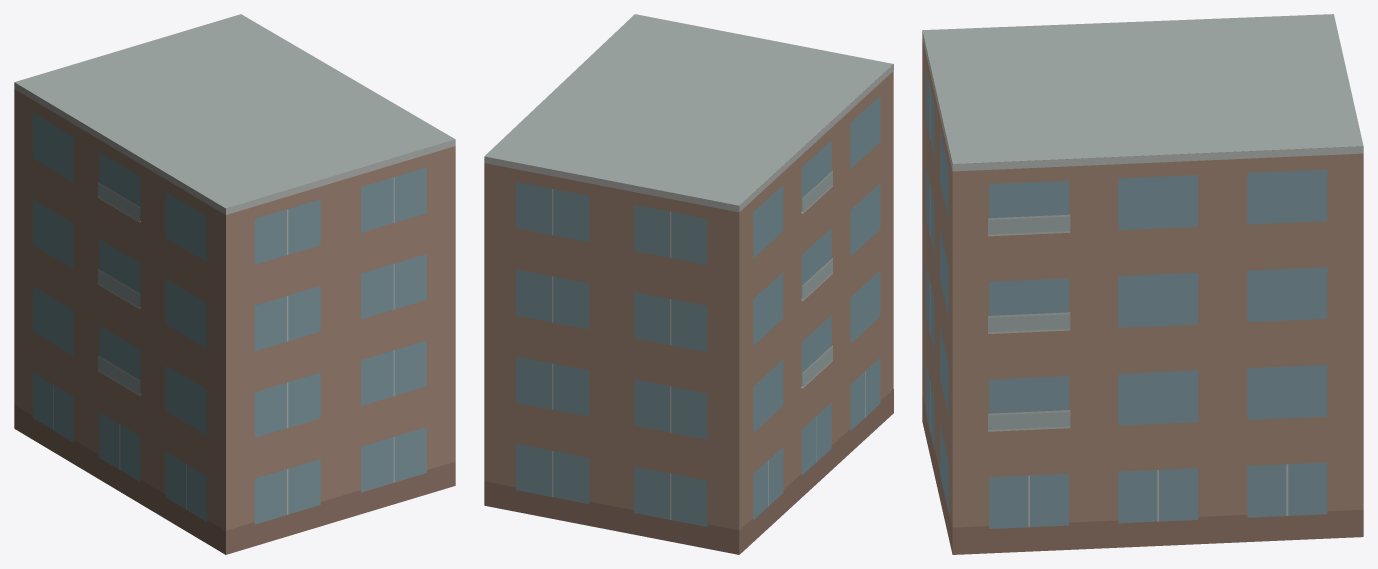
File: survey-upis-32670462.glb
The picture shows the model from 3 angles, left to right: view 1: azimuth 30°, elevation 25°; view 2: azimuth 150°, elevation 25°; view 3: azimuth 270°, elevation 25°; orthographic projection. The views are drawn at different scales.
Visible parts, largest first — view 1: survey-upis-32670462.tmp; view 2: survey-upis-32670462.tmp; view 3: survey-upis-32670462.tmp.
Boxes of the visible parts, x1,y1,x2,y2 form: survey-upis-32670462.tmp: (14, 14, 455, 554); survey-upis-32670462.tmp: (484, 14, 893, 554); survey-upis-32670462.tmp: (922, 14, 1363, 554).
Size of the model in its own units: 10.55 by 12.8 by 13.11.
